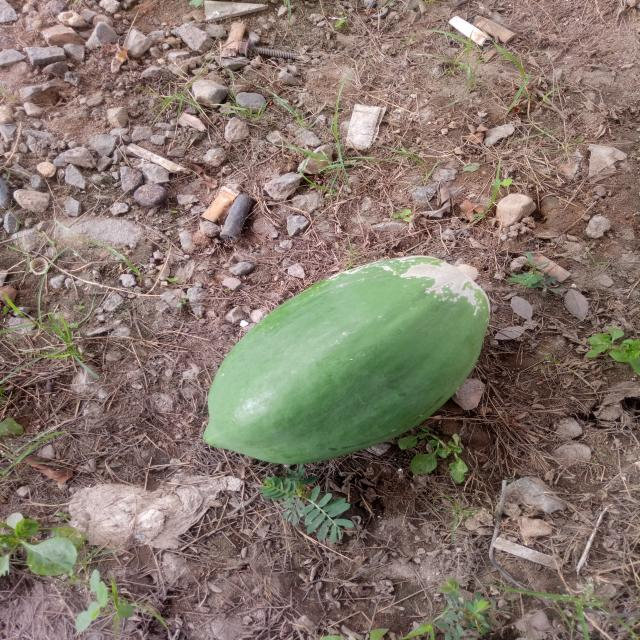Pepaya unrippen: (203, 253, 490, 467)
